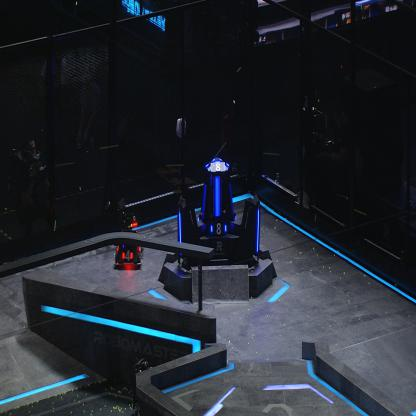car: (113, 213, 144, 268)
